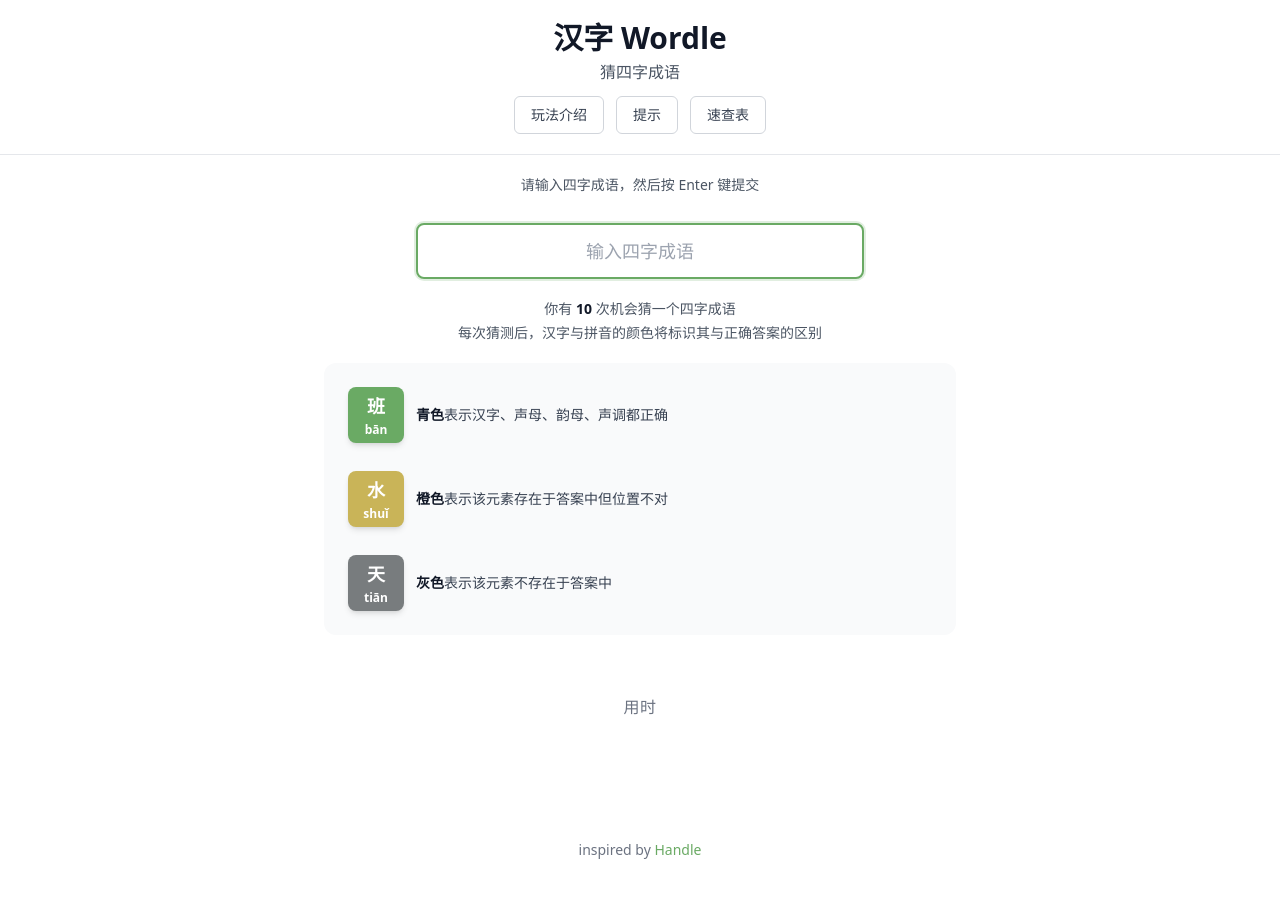
Modal Functionality › should open hint modal when hint button is clicked
Click the button "提示". click: (647, 115)
box: [616,96,678,134]
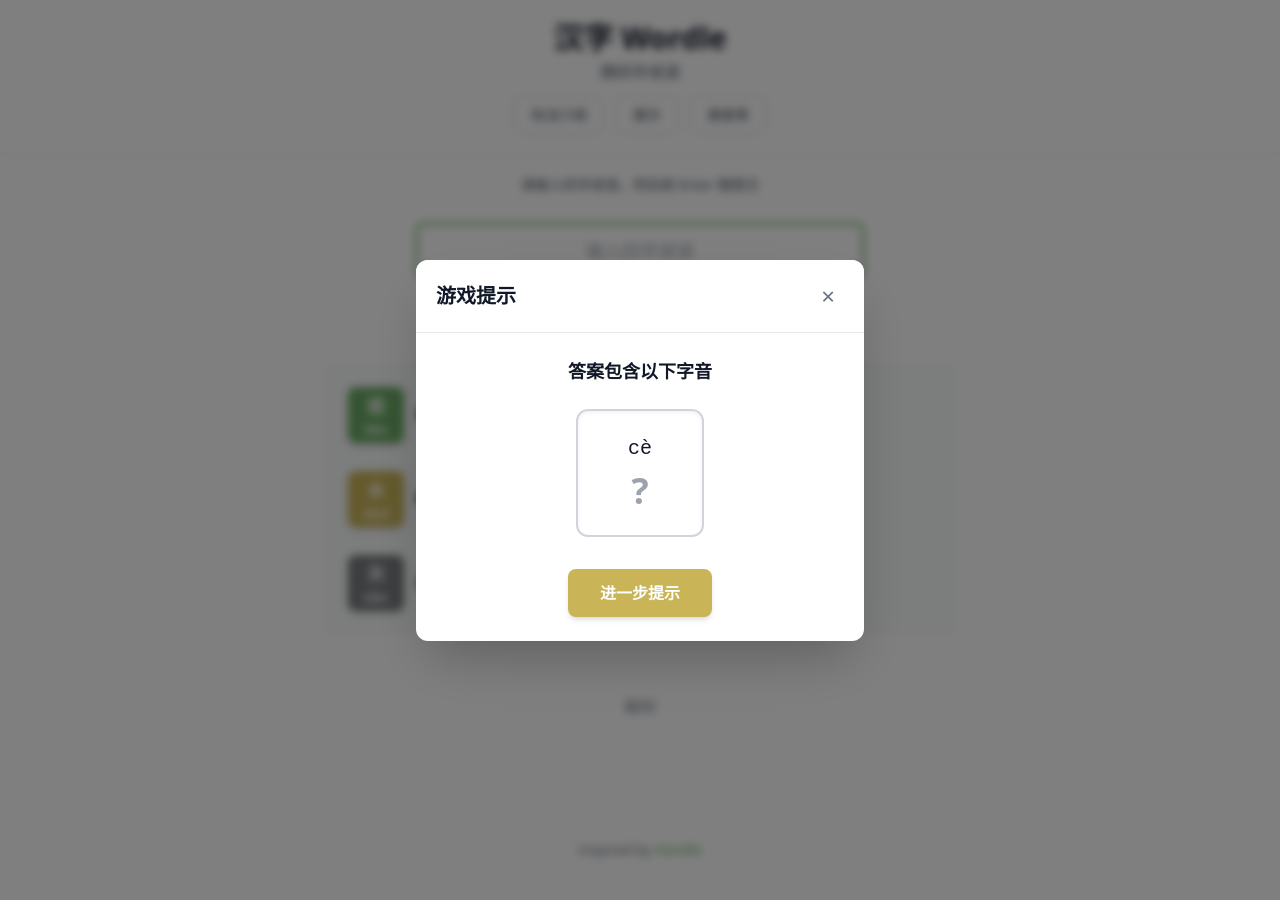
Check: the heading "游戏提示" is shown, box [436,282,516,310]
Check: the heading "答案包含以下字音" is shown, box [568,356,712,384]
